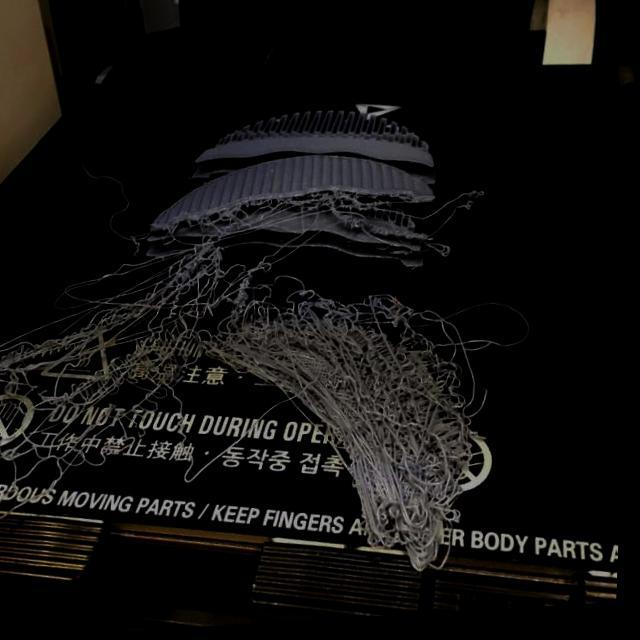spaghetti: (250, 267, 542, 584), (1, 251, 247, 547), (113, 153, 504, 307)
